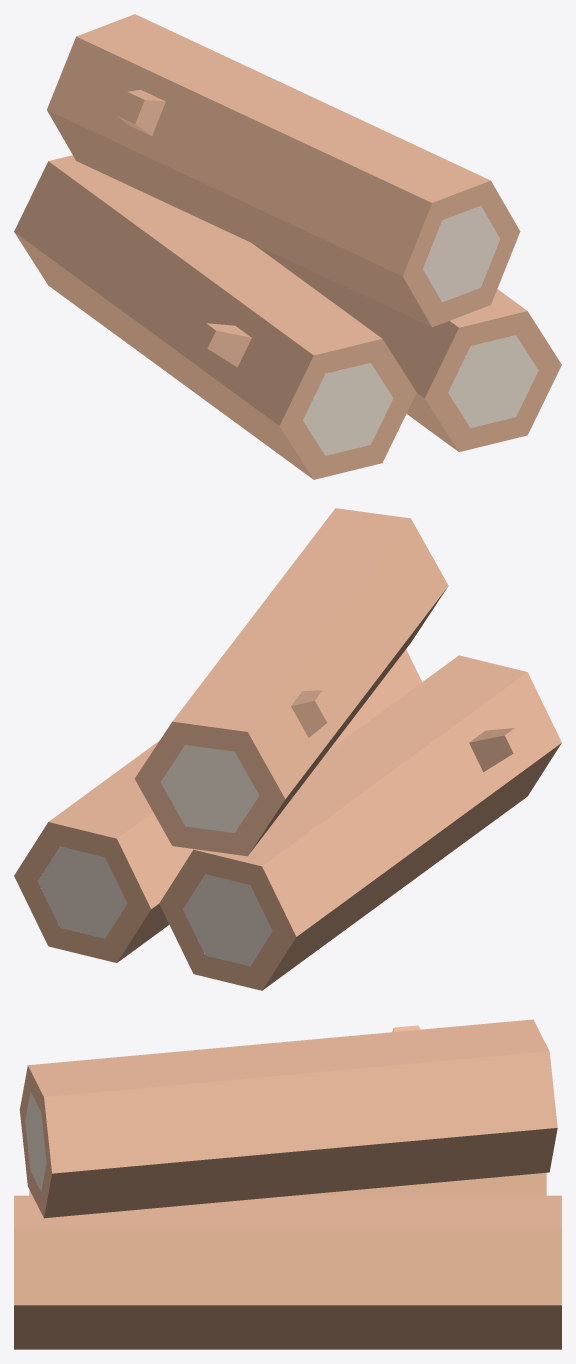
Rendered from log_stack.glb.
3 views of the same model, one above another, from view 1: azimuth 30°, elevation 25°; view 2: azimuth 150°, elevation 25°; view 3: azimuth 270°, elevation 25° (orthographic). The views are drawn at different scales.
Parts seen in each view (by area): view 1: log_stack; view 2: log_stack; view 3: log_stack.
Part boxes in pixels (left/top/right/bottom): log_stack: left=14, top=14, right=561, bottom=479; log_stack: left=14, top=508, right=561, bottom=990; log_stack: left=14, top=1019, right=561, bottom=1349.
Size of the model in its own units: 0.4247 by 0.3464 by 0.71.
